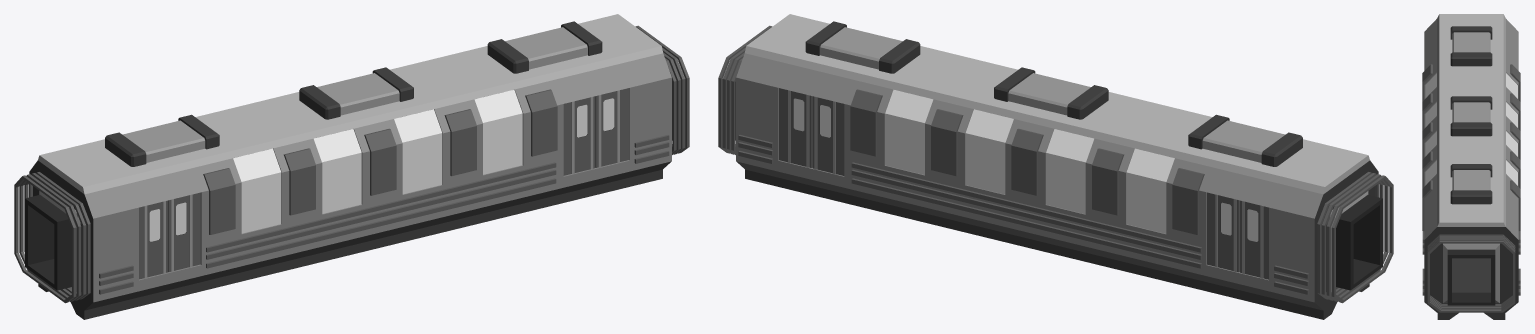
Rendered from train_car.FBX.
The picture shows the model from 3 angles, left to right: view 1: azimuth 30°, elevation 25°; view 2: azimuth 150°, elevation 25°; view 3: azimuth 270°, elevation 25°; orthographic projection. The views are drawn at different scales.
Parts seen in each view (by area): view 1: train_car, train_car_glass, door_train003, door_train001, door_train002, door_train; view 2: train_car, train_car_glass, door_train005, door_train007, door_train004, door_train006; view 3: train_car, train_car_glass.
Part boxes in pixels (left/top/right/bottom): train_car: left=14, top=14, right=689, bottom=319; train_car_glass: left=233, top=90, right=522, bottom=233; door_train003: left=595, top=88, right=628, bottom=167; door_train001: left=168, top=192, right=200, bottom=272; door_train002: left=563, top=96, right=595, bottom=175; door_train: left=139, top=200, right=167, bottom=279; train_car: left=718, top=14, right=1393, bottom=319; train_car_glass: left=885, top=89, right=1174, bottom=233; door_train005: left=779, top=88, right=812, bottom=167; door_train007: left=1207, top=192, right=1239, bottom=272; door_train004: left=812, top=96, right=844, bottom=175; door_train006: left=1240, top=200, right=1268, bottom=279; train_car: left=1422, top=14, right=1520, bottom=319; train_car_glass: left=1425, top=73, right=1517, bottom=185.
Bounding box in the file's own units: 1304 × 290 × 244.
